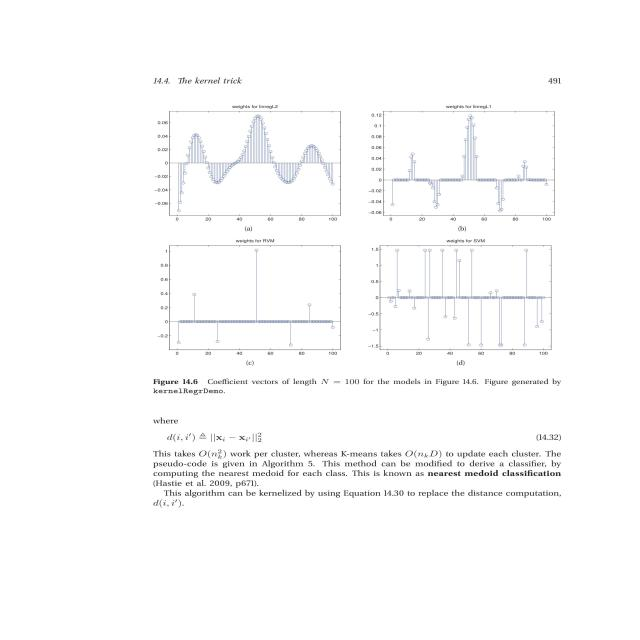diagram: (111, 89, 616, 411)
